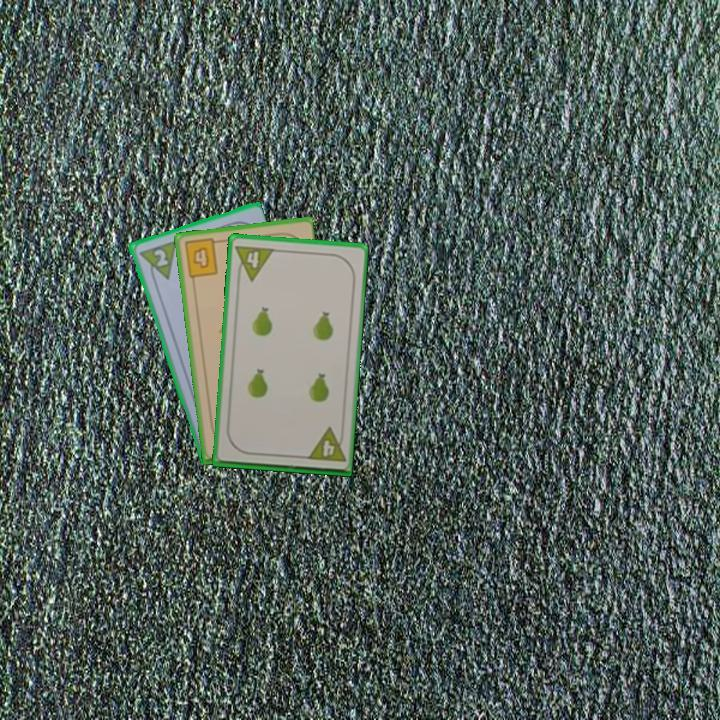2p: (150, 245, 171, 269)
4b: (181, 235, 223, 280)
4p: (232, 241, 277, 284), (303, 424, 347, 465)
